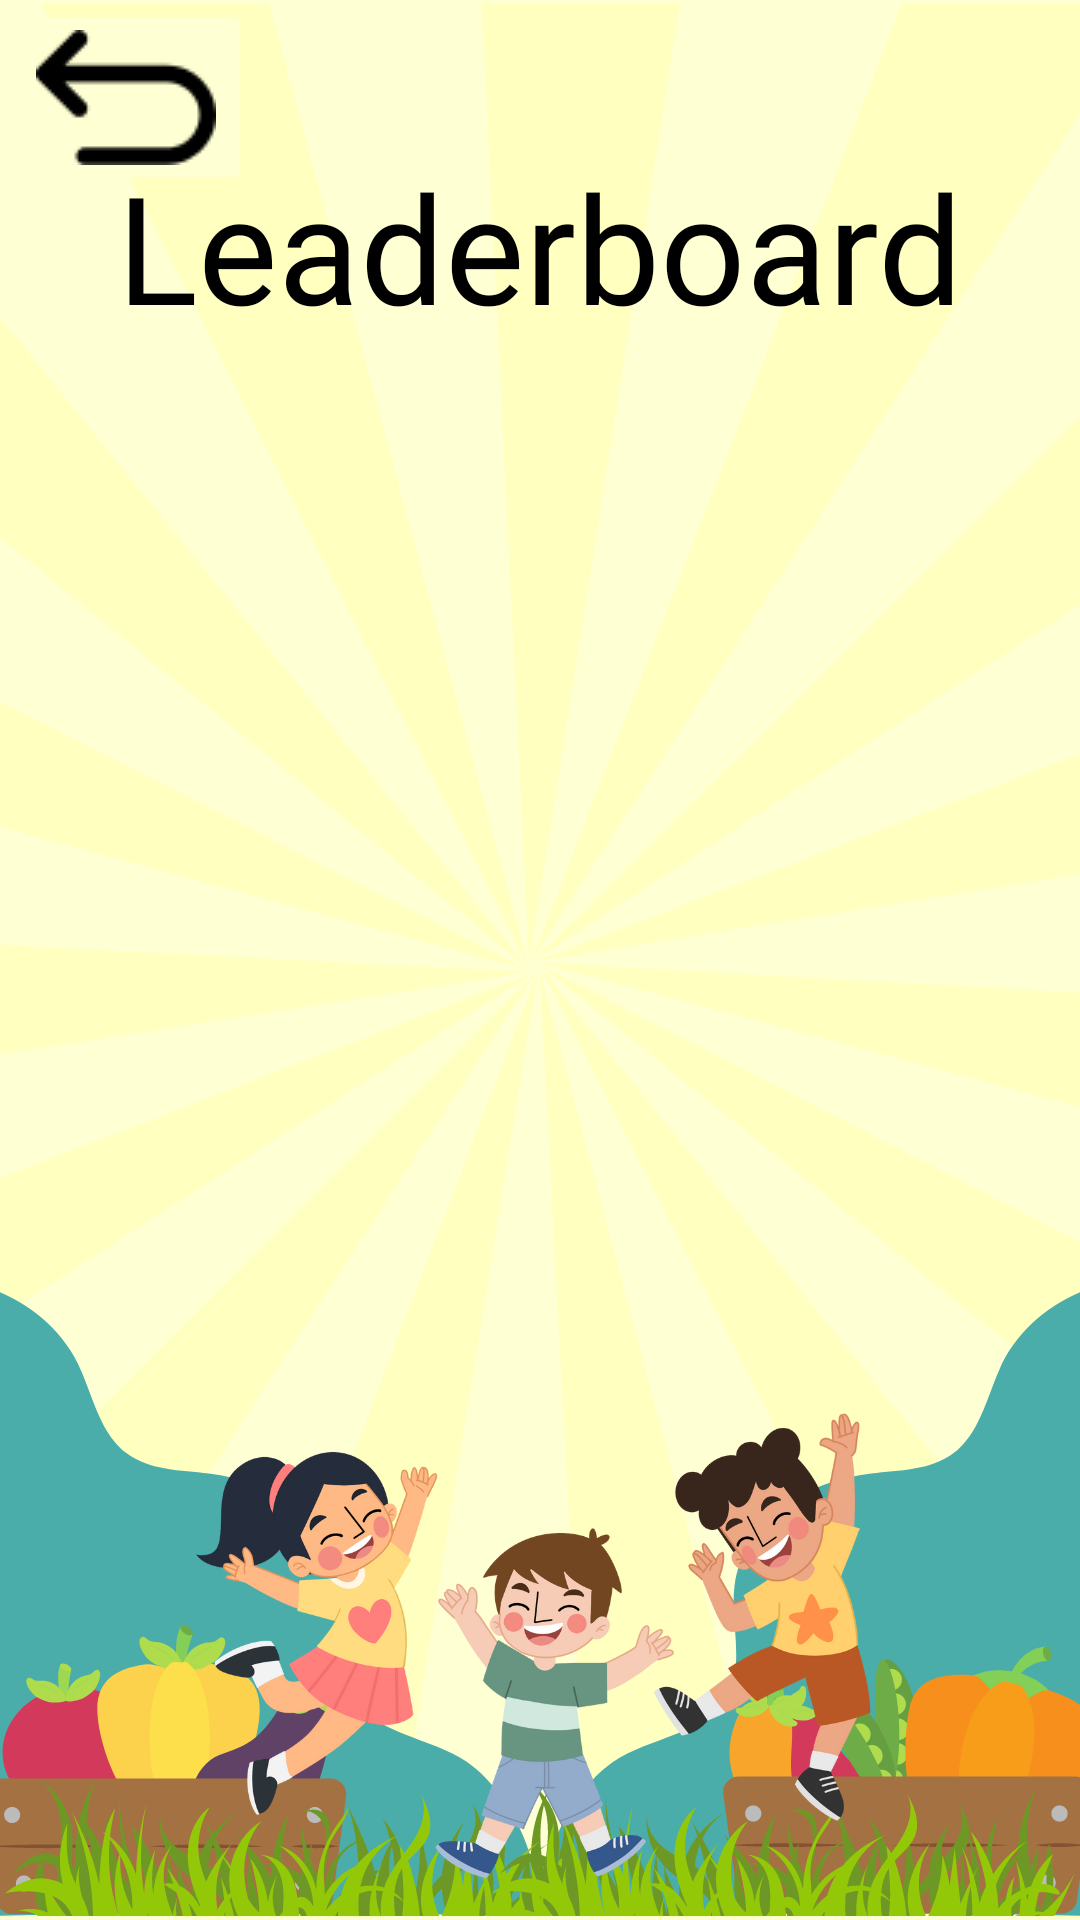

Screen size 1080 x 1920. Icon name, then its box in pixels as (x1, y1, x2, y2):
Back: (36, 30, 216, 165)
